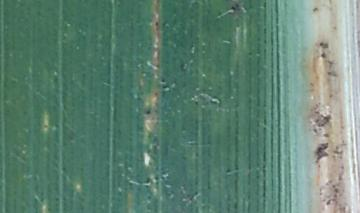tarspot: (228, 5, 237, 17), (319, 51, 329, 59), (144, 109, 153, 117), (153, 19, 161, 27), (318, 40, 325, 48)
